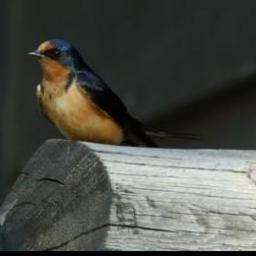Swallow: (26, 37, 206, 147)
